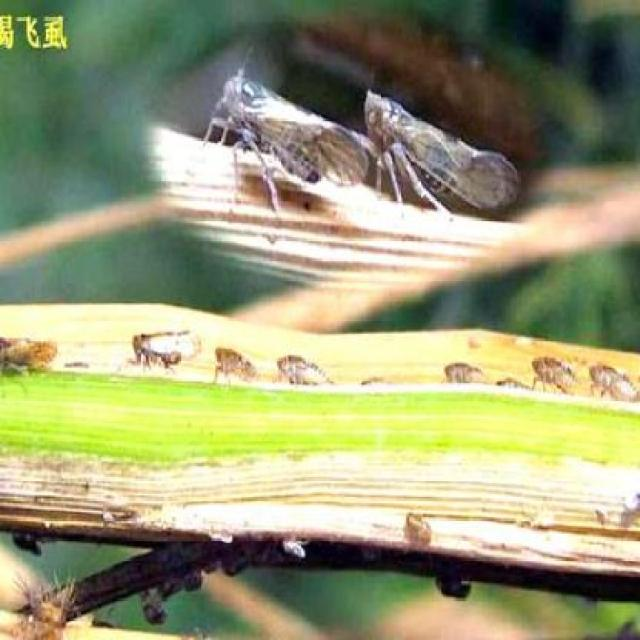brown-planthopper: (362, 83, 524, 214), (211, 69, 367, 202), (126, 325, 200, 386), (272, 348, 332, 392), (588, 358, 634, 410), (212, 343, 258, 392), (0, 332, 57, 370), (529, 353, 577, 395), (444, 356, 484, 389), (406, 507, 432, 539)
